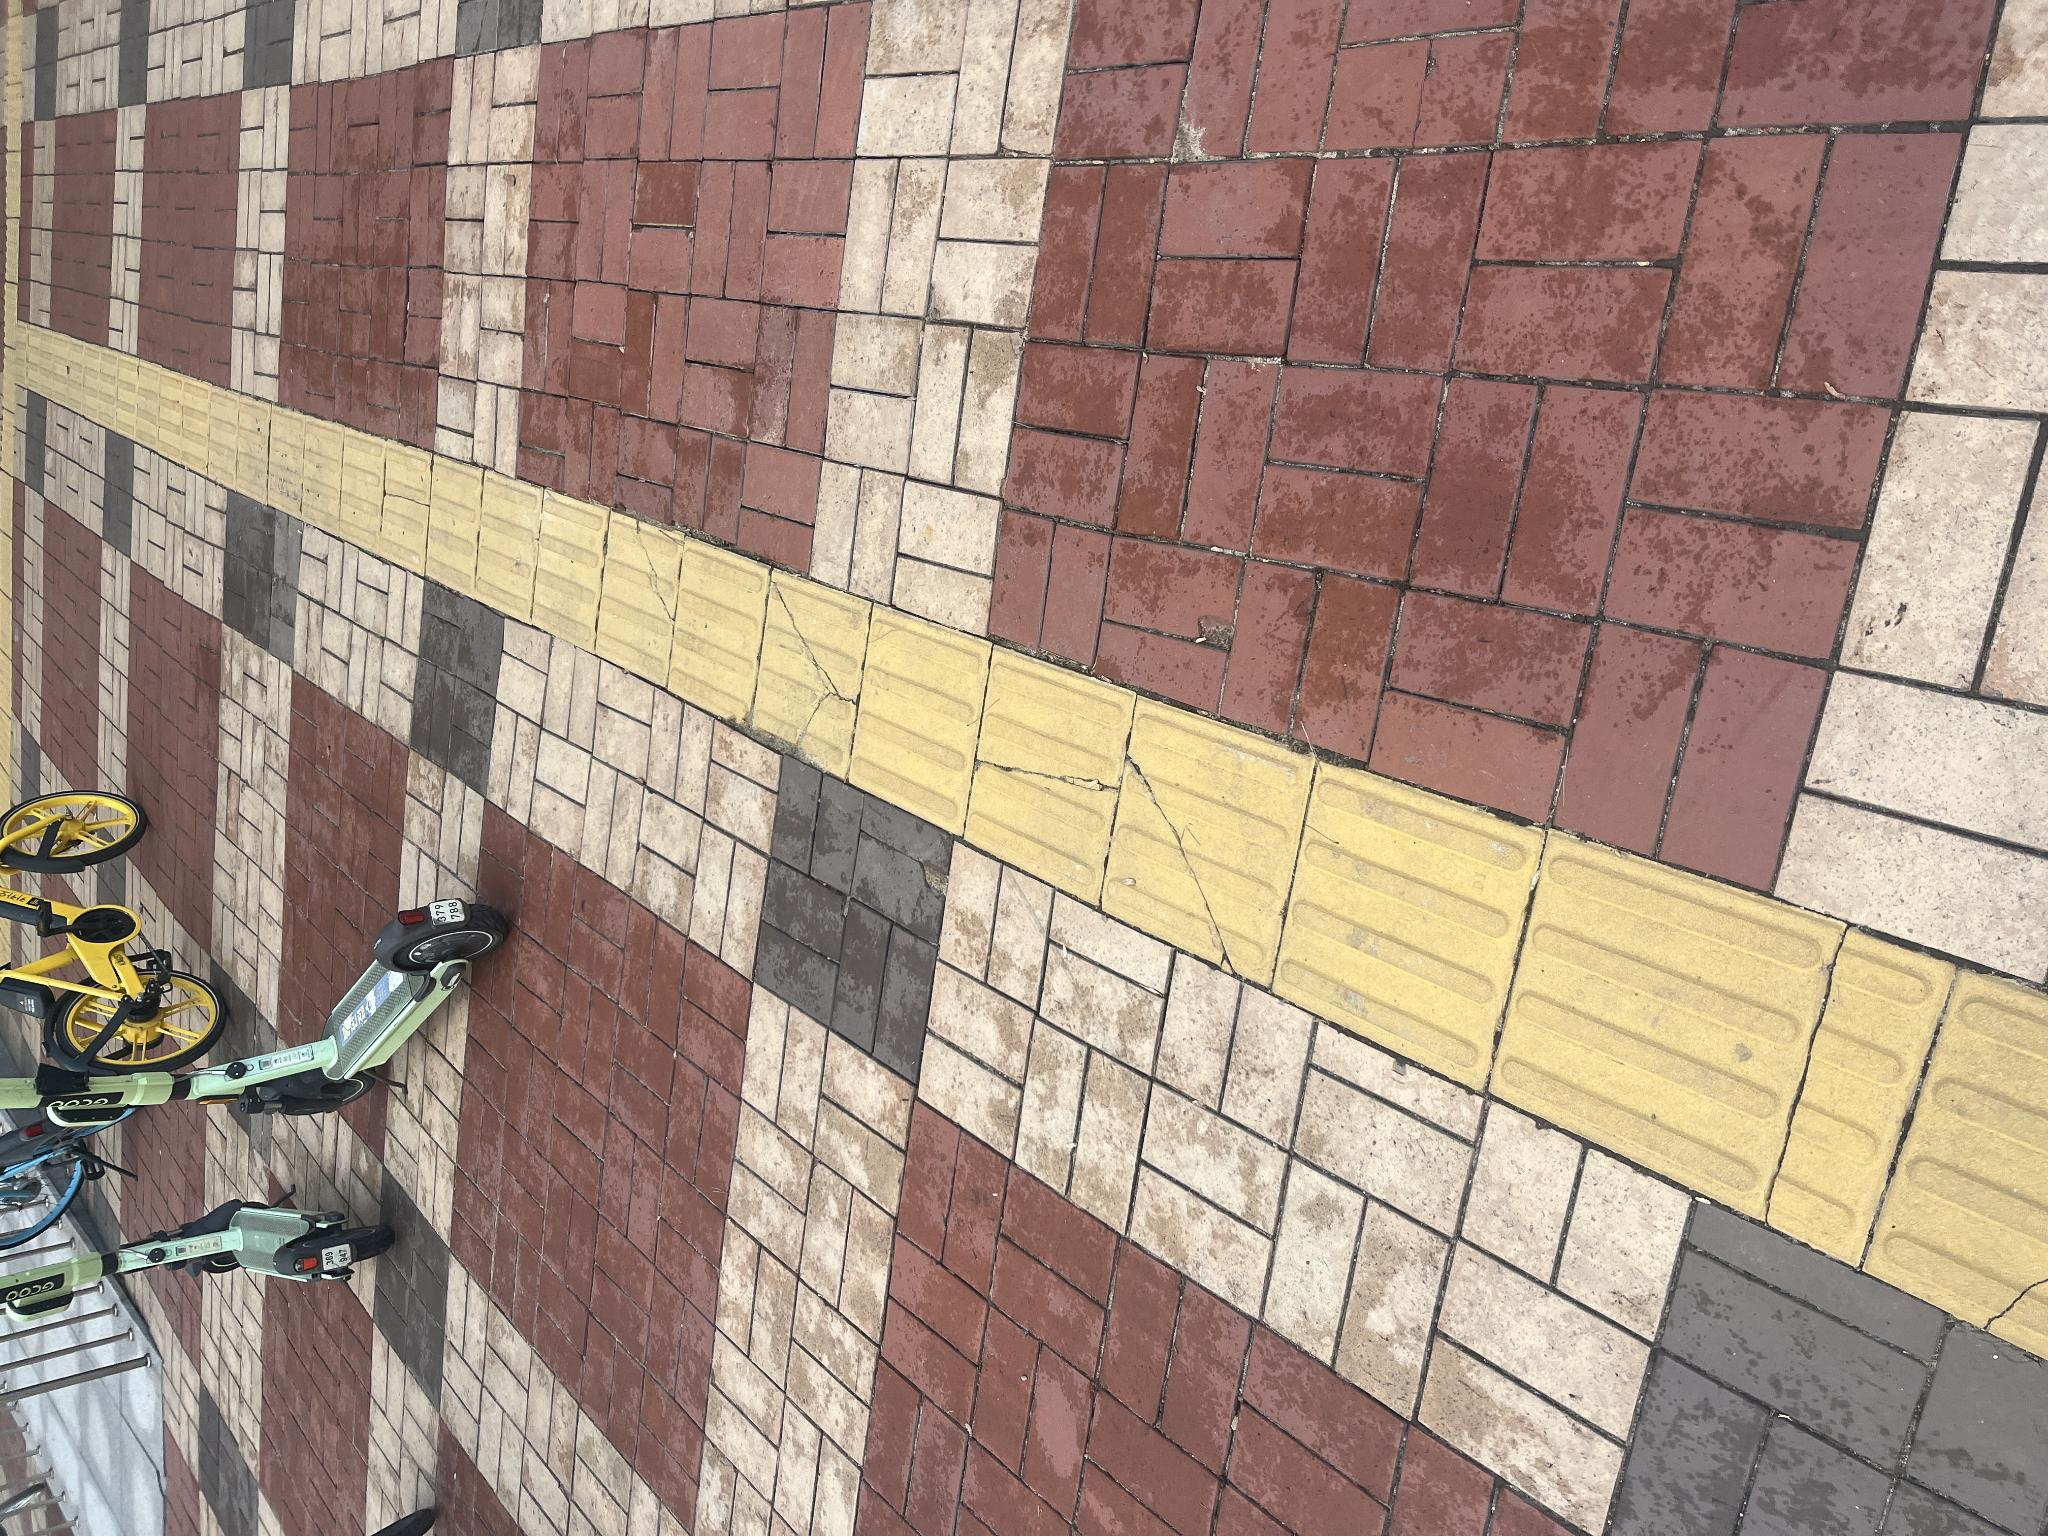Straight block broken: (550, 1100, 840, 1315), (632, 965, 889, 1134), (755, 752, 966, 870), (848, 595, 1024, 682), (961, 381, 1095, 431)
Straight block normal: (447, 1271, 776, 1536), (701, 849, 932, 991), (805, 670, 997, 766), (885, 534, 1043, 607), (913, 474, 1066, 542), (939, 426, 1080, 481)
